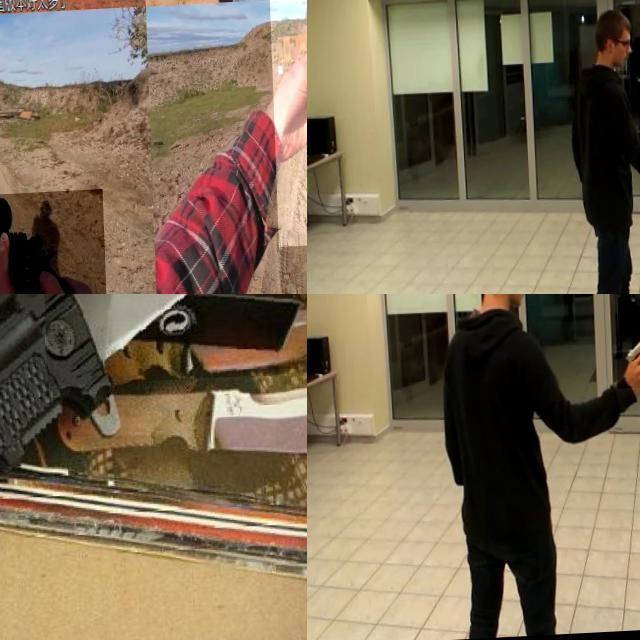-: (38, 294, 307, 426)
gun-knife-thesis - v11 Yolov5 augmented: (0, 191, 102, 294), (267, 0, 307, 251), (0, 0, 60, 110), (612, 315, 640, 392), (254, 0, 307, 37)
